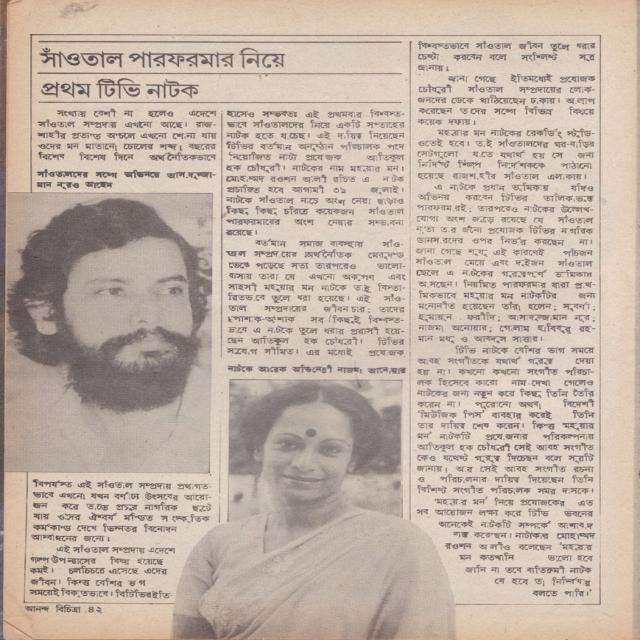caption: (35, 168, 217, 189), (225, 362, 406, 375)
image: (171, 379, 457, 640), (4, 192, 213, 474)
page number: (87, 605, 104, 614)
paragraph: (417, 182, 596, 344), (417, 345, 596, 494), (225, 109, 406, 237), (226, 239, 405, 357), (415, 496, 595, 597), (31, 479, 212, 542), (417, 73, 597, 126), (36, 109, 217, 161), (417, 128, 596, 180), (29, 544, 176, 600), (417, 40, 596, 72)
text: (56, 604, 81, 613), (24, 605, 51, 612)
title: (38, 48, 285, 68), (40, 78, 200, 99)
